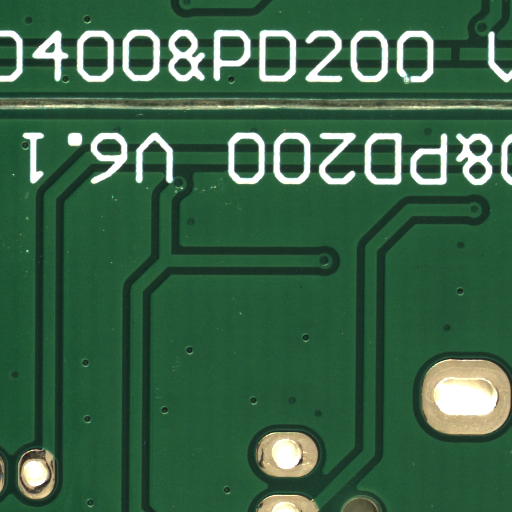Open_circuit: (455, 54, 468, 72)
